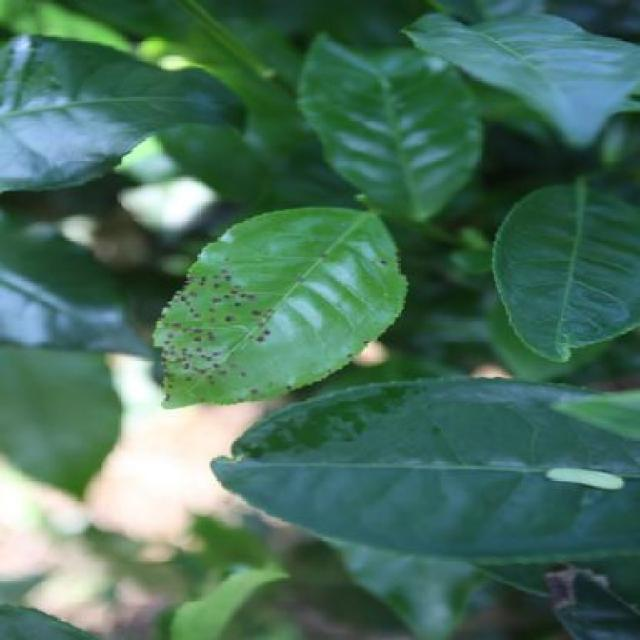Tea Mosquito bug infested leaf: (142, 192, 418, 430)
